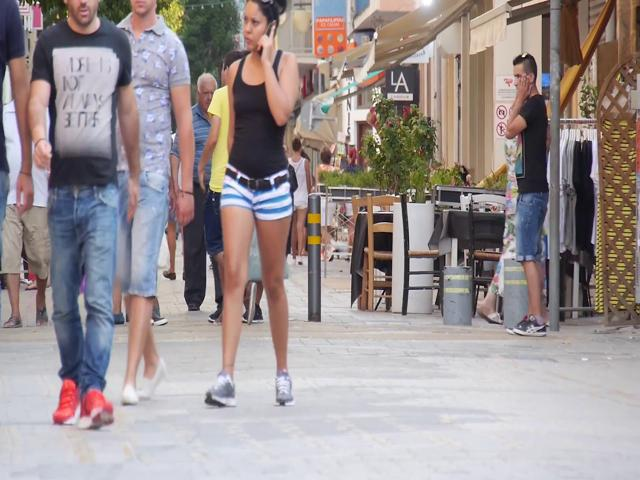shoe: (78, 390, 114, 429), (52, 379, 82, 425), (204, 372, 236, 407), (140, 358, 165, 398), (514, 315, 546, 336), (275, 369, 293, 405), (244, 282, 257, 324), (34, 293, 49, 326), (120, 384, 139, 405), (4, 314, 22, 327)
